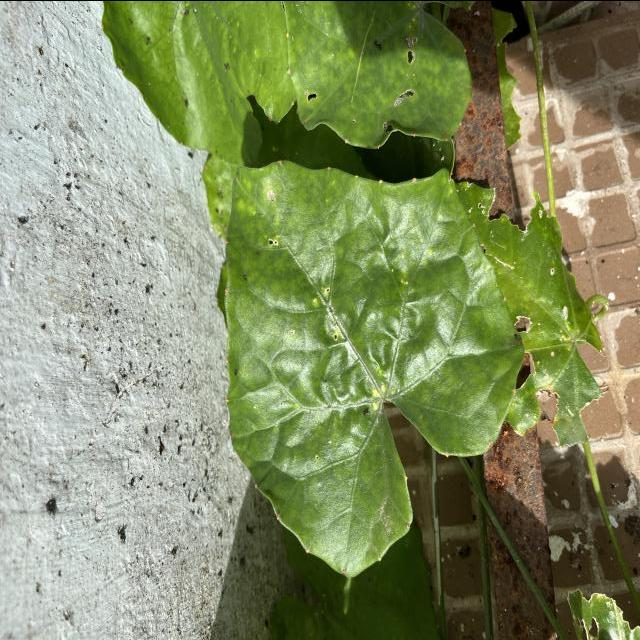Coccinia grandis: (200, 151, 528, 580)
